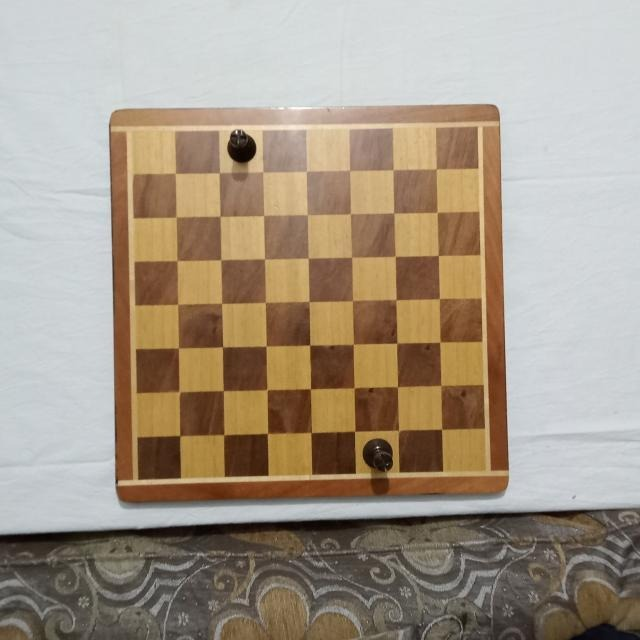black-rook: (361, 436, 395, 472), (226, 126, 258, 164)
